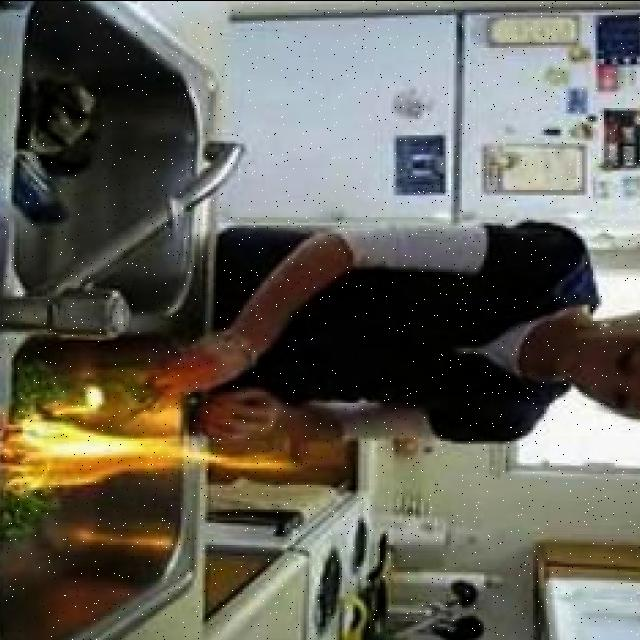fire: (6, 409, 270, 491)
